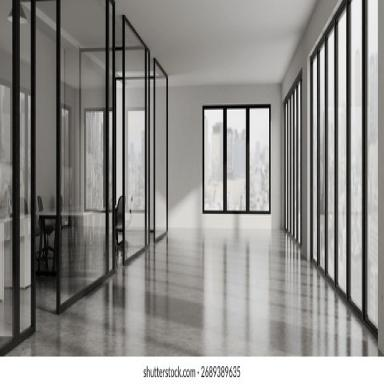glass_panel: (82, 51, 105, 274), (124, 20, 146, 249), (13, 1, 28, 302), (350, 3, 363, 307), (368, 1, 378, 328), (336, 4, 347, 289), (314, 40, 324, 262), (154, 62, 166, 237), (250, 109, 270, 212), (226, 109, 246, 212), (204, 109, 223, 212), (85, 111, 103, 210), (298, 72, 304, 242), (290, 82, 296, 236), (286, 90, 292, 230)
